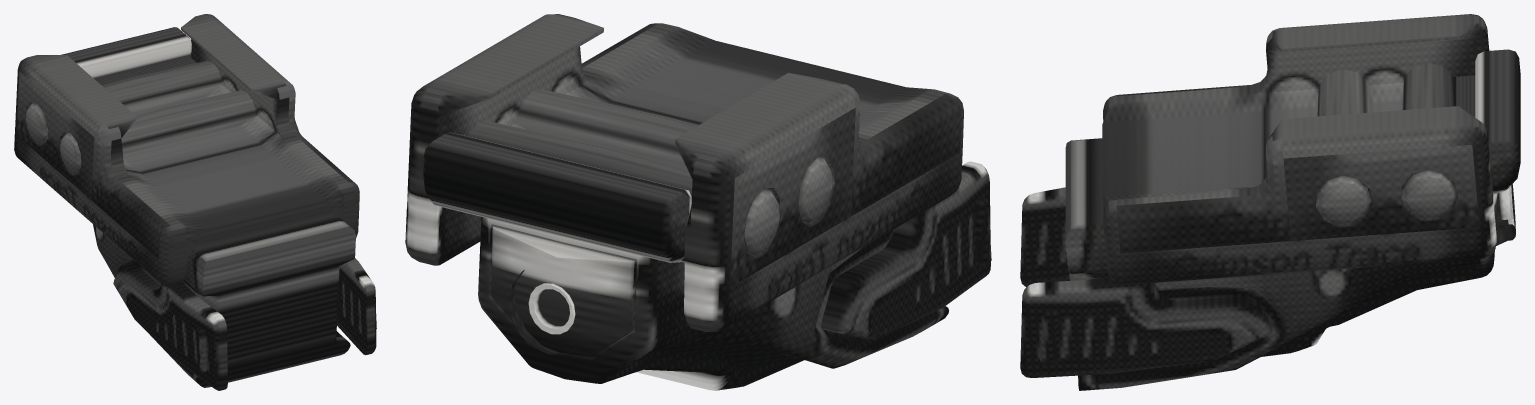
Rendered from Att-laser-cmr-206.glb.
3 renders of one model, left to right at view 1: azimuth 30°, elevation 25°; view 2: azimuth 150°, elevation 25°; view 3: azimuth 270°, elevation 25°, orthographic. The views are drawn at different scales.
Visible parts, largest first — view 1: inspect-view.front.002; view 2: inspect-view.front.002; view 3: inspect-view.front.002.
Part boxes in pixels (<box>): inspect-view.front.002: <box>14,14,376,390</box>; inspect-view.front.002: <box>405,14,991,390</box>; inspect-view.front.002: <box>1020,14,1520,390</box>.
Size of the model in its own units: 0.6122 by 0.6387 by 1.04.
3 materials, 3 textured.
